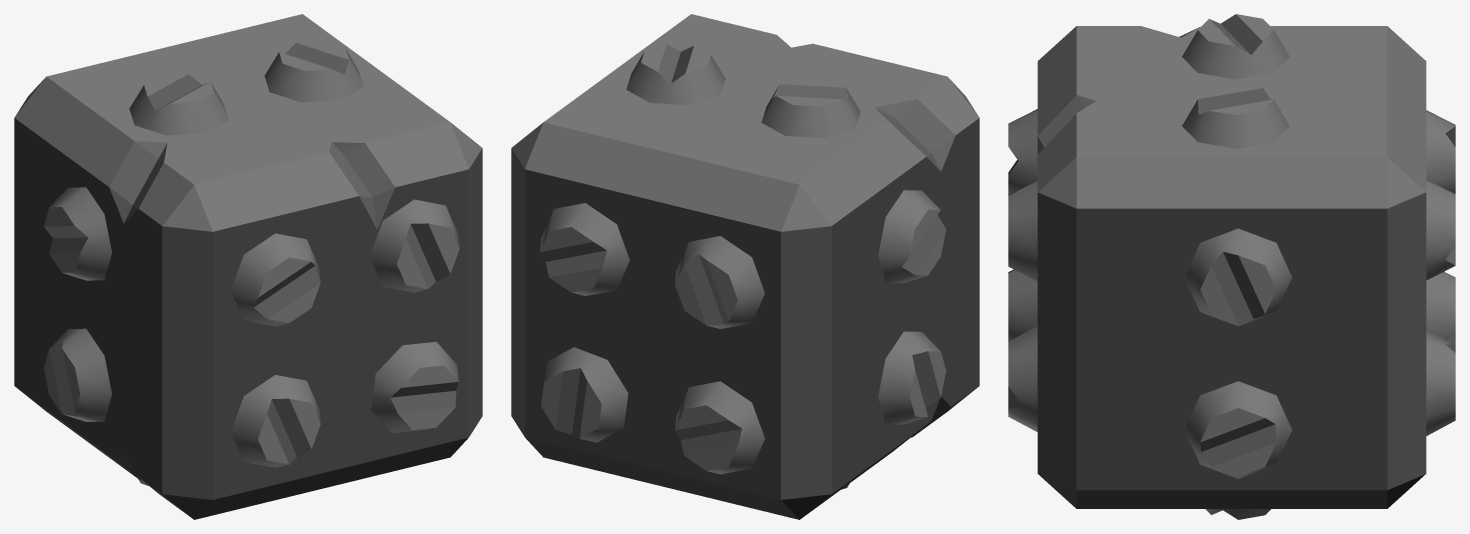
File: m_kub_metalOld_miniCube.FBX
The picture shows the model from 3 angles, left to right: view 1: azimuth 30°, elevation 25°; view 2: azimuth 150°, elevation 25°; view 3: azimuth 270°, elevation 25°; orthographic projection. The views are drawn at different scales.
Parts seen in each view (by area): view 1: m_kub_metalOld_miniCube; view 2: m_kub_metalOld_miniCube; view 3: m_kub_metalOld_miniCube.
Boxes of the visible parts, left/top/right/bottom form: m_kub_metalOld_miniCube: left=14, top=14, right=482, bottom=519; m_kub_metalOld_miniCube: left=511, top=14, right=979, bottom=519; m_kub_metalOld_miniCube: left=1008, top=14, right=1455, bottom=519.
Size of the model in its own units: 1.15 by 1.15 by 1.15.
